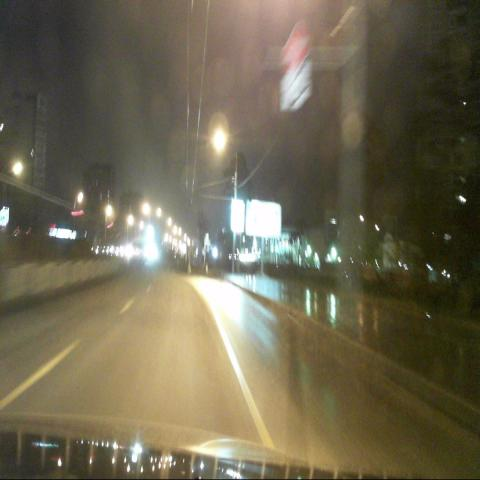3_1: (290, 21, 311, 59)
